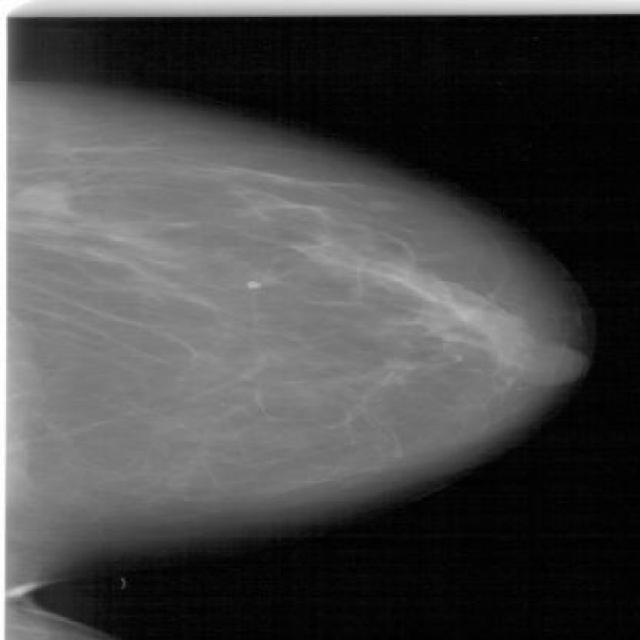tumor: (237, 183, 586, 409)
